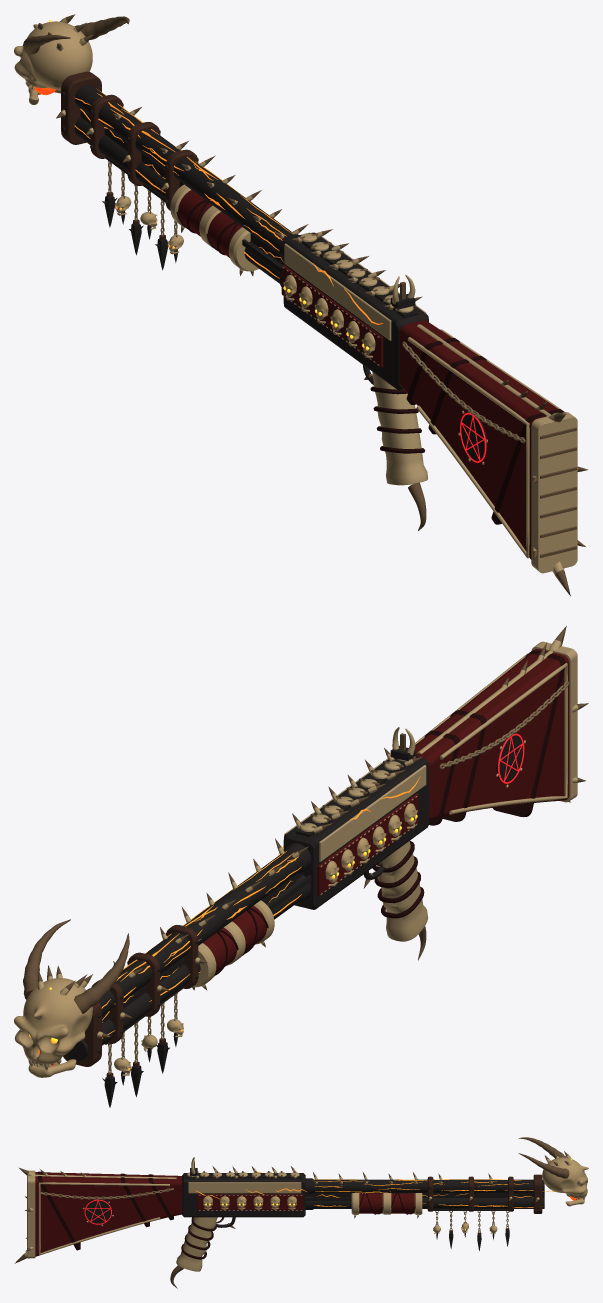
File: soulblazer.glb
3 renders of one model, top to bottom at view 1: azimuth 30°, elevation 25°; view 2: azimuth 150°, elevation 25°; view 3: azimuth 270°, elevation 25°, orthographic. The views are drawn at different scales.
Parts seen in each view (by area): view 1: SB_Body, SB_Organic, SB_Pump; view 2: SB_Body, SB_Organic, SB_Pump; view 3: SB_Body, SB_Organic, SB_Pump.
Boxes of the visible parts, left/top/right/bottom form: SB_Body: left=61, top=71, right=577, bottom=573; SB_Organic: left=14, top=14, right=588, bottom=596; SB_Pump: left=170, top=184, right=281, bottom=275; SB_Body: left=63, top=641, right=577, bottom=1066; SB_Organic: left=14, top=626, right=588, bottom=1071; SB_Pump: left=192, top=875, right=311, bottom=990; SB_Body: left=27, top=1170, right=544, bottom=1271; SB_Organic: left=14, top=1137, right=588, bottom=1288; SB_Pump: left=305, top=1193, right=422, bottom=1218.
Size of the model in its own units: 0.1004 by 0.2911 by 1.06.
